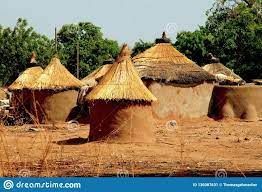Mud House: (134, 31, 218, 123), (87, 48, 157, 144), (37, 53, 81, 125), (10, 53, 47, 122)
